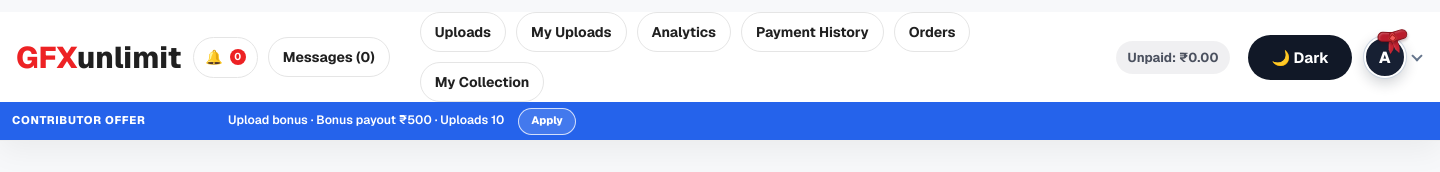
Test: AppHeader customer navigation › shows active Contributor Offers in a blue ribbon for logged-in contributors
Expected: the element named "Active Contributor Offers" shows "Upload bonus · Bonus payout ₹500 · Uploads 10", [228,112,504,128]
Expected: the text with class "contributor-offer-ribbon-label" reads "CONTRIBUTOR OFFER", [12,113,146,127]
Click the button "Apply" at (547, 121), box [518,108,576,134]
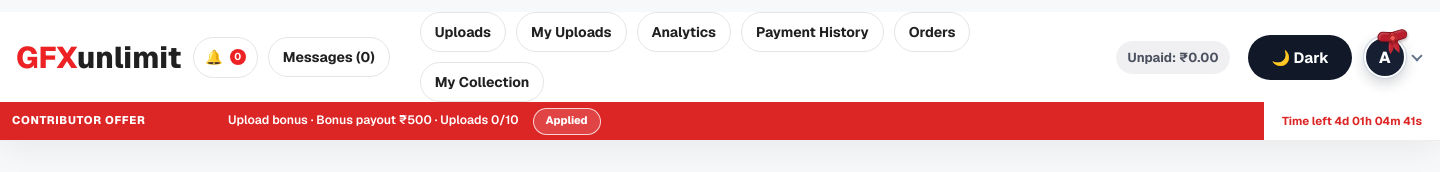
Expected: the button "Applied" is disabled, [533,108,601,134]
Expected: the text named "Contributor offer time remaining" reads "Time left 4d 01h 04m 41s", [1282,113,1422,128]
Expected: the element named "Applied Contributor Offer" shows "Uploads 0/10", [228,112,519,128]
